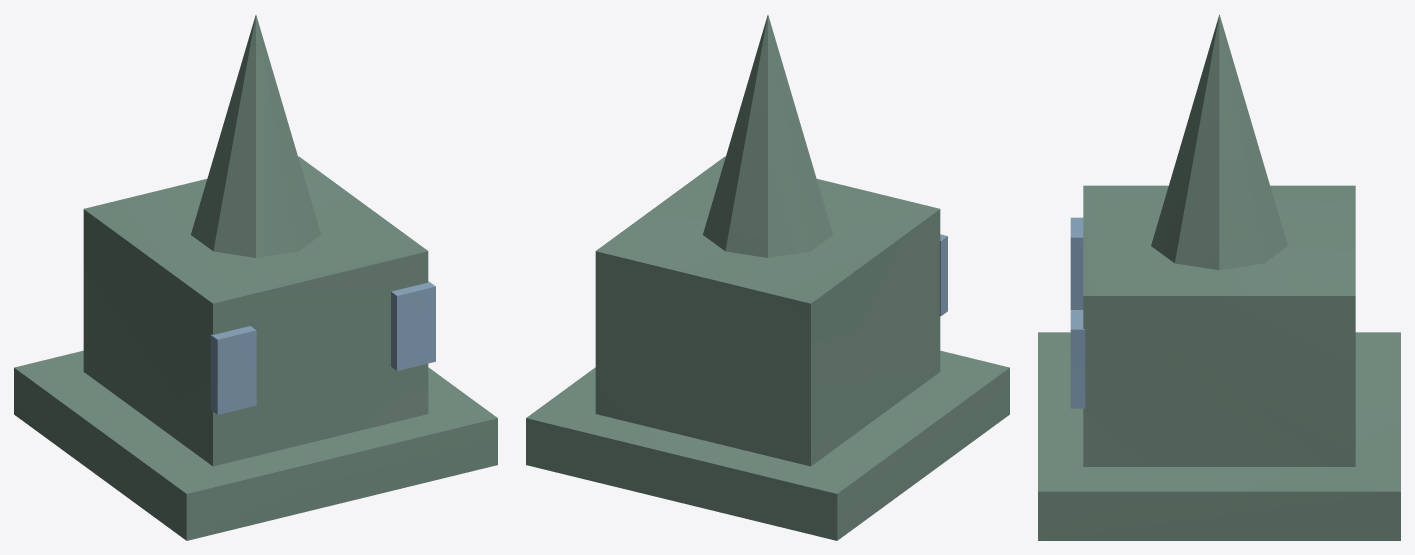
Rendered from monument-01.glb.
3 views of the same model, side by side, from view 1: azimuth 30°, elevation 25°; view 2: azimuth 150°, elevation 25°; view 3: azimuth 270°, elevation 25° (orthographic). The views are drawn at different scales.
Parts seen in each view (by area): view 1: world; view 2: world; view 3: world.
Boxes of the visible parts, x1,y1,x2,y2 form: world: (14,15,497,540); world: (526,15,1009,540); world: (1038,14,1400,540).
Size of the model in its own units: 1.04 by 1.36 by 1.
